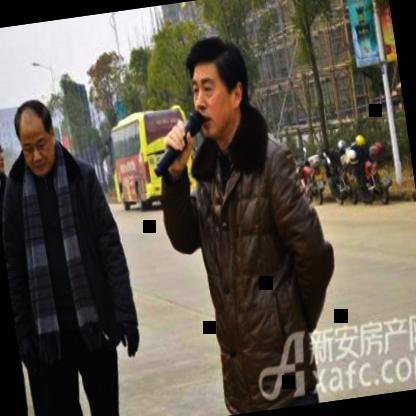head: (182, 29, 256, 147), (9, 93, 66, 188), (0, 124, 11, 180)
